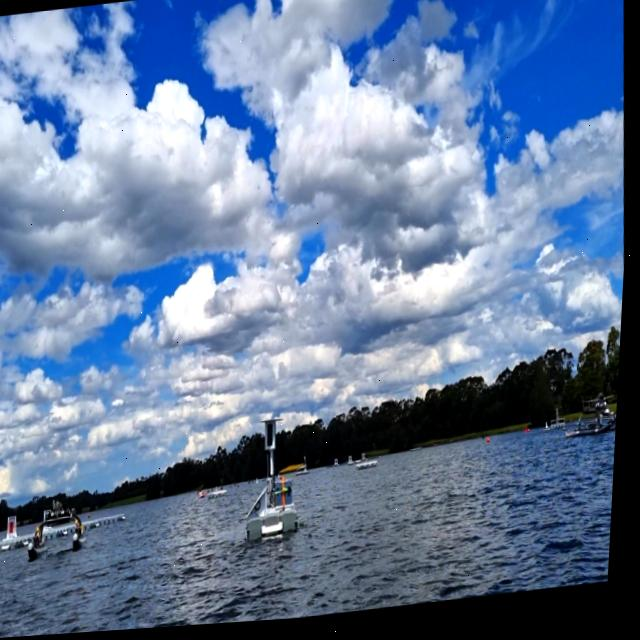led: (270, 425, 280, 452)
